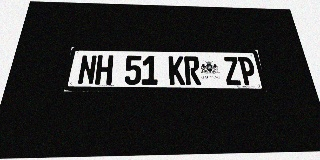1: (141, 56, 158, 85)
5: (125, 55, 141, 85)
H: (95, 55, 114, 85)
K: (168, 56, 185, 85)
N: (77, 55, 97, 85)
P: (237, 57, 258, 85)
R: (184, 56, 201, 85)
Z: (223, 57, 242, 85)
